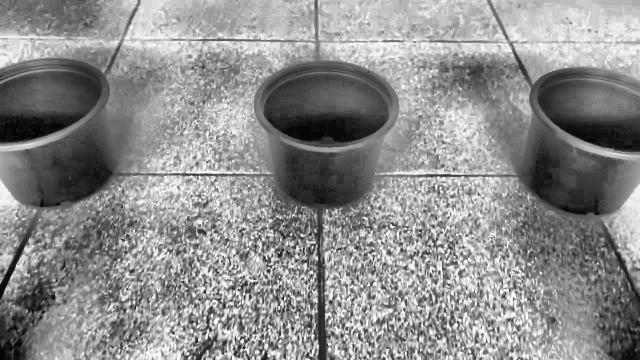pot: (253, 62, 400, 209), (520, 68, 640, 217), (0, 58, 117, 209)
